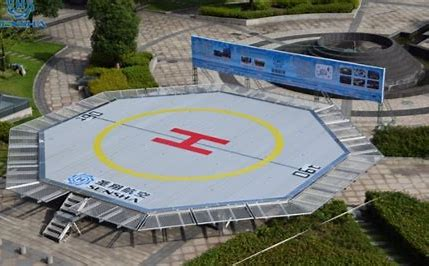H: (150, 127, 230, 157)
